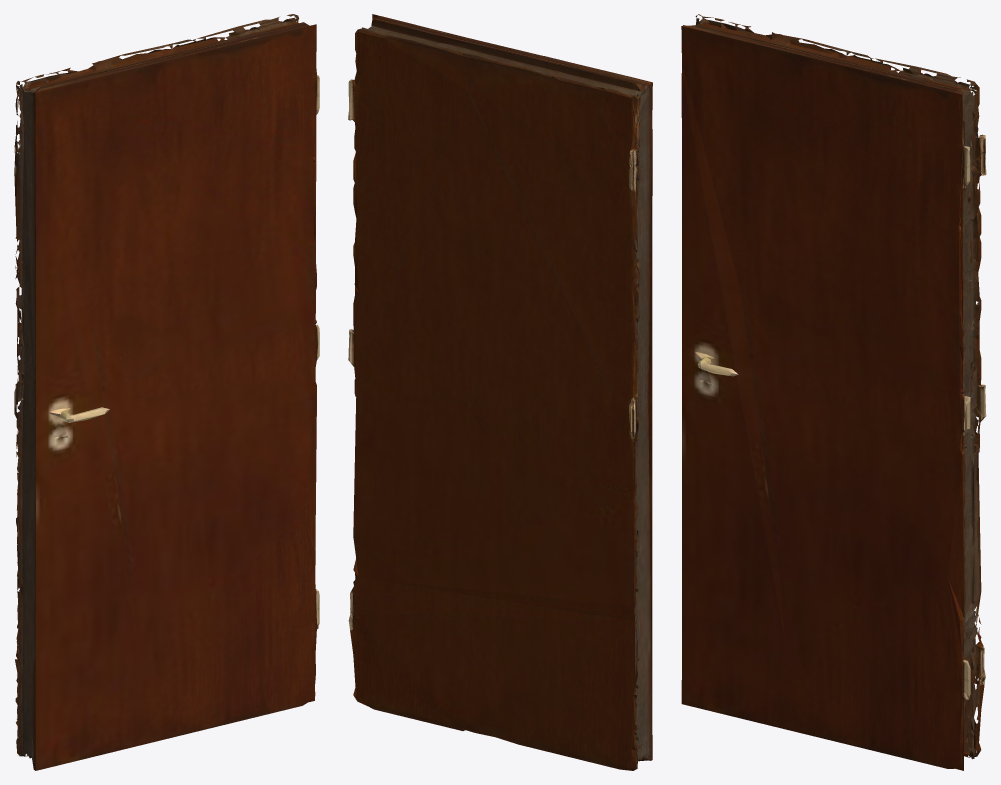
The model's file is w4door.glb.
The picture shows the model from 3 angles, left to right: view 1: azimuth 30°, elevation 25°; view 2: azimuth 150°, elevation 25°; view 3: azimuth 330°, elevation 25°; orthographic projection.
Parts seen in each view (by area): view 1: output_unwrapped; view 2: output_unwrapped; view 3: output_unwrapped.
Part boxes in pixels (x1,y1,x2,y2): output_unwrapped: (14, 14, 319, 770); output_unwrapped: (348, 14, 652, 770); output_unwrapped: (681, 14, 986, 770).
Size of the model in its own units: 0.9378 by 2.1 by 0.1771.
Materials: 1 (1 with a texture image).
